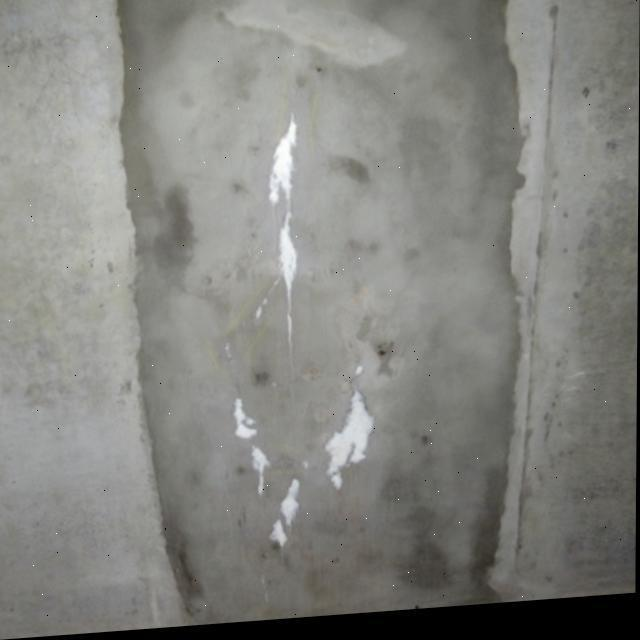D01: (270, 118, 301, 293), (326, 386, 377, 489), (270, 118, 297, 203), (274, 482, 305, 549)
